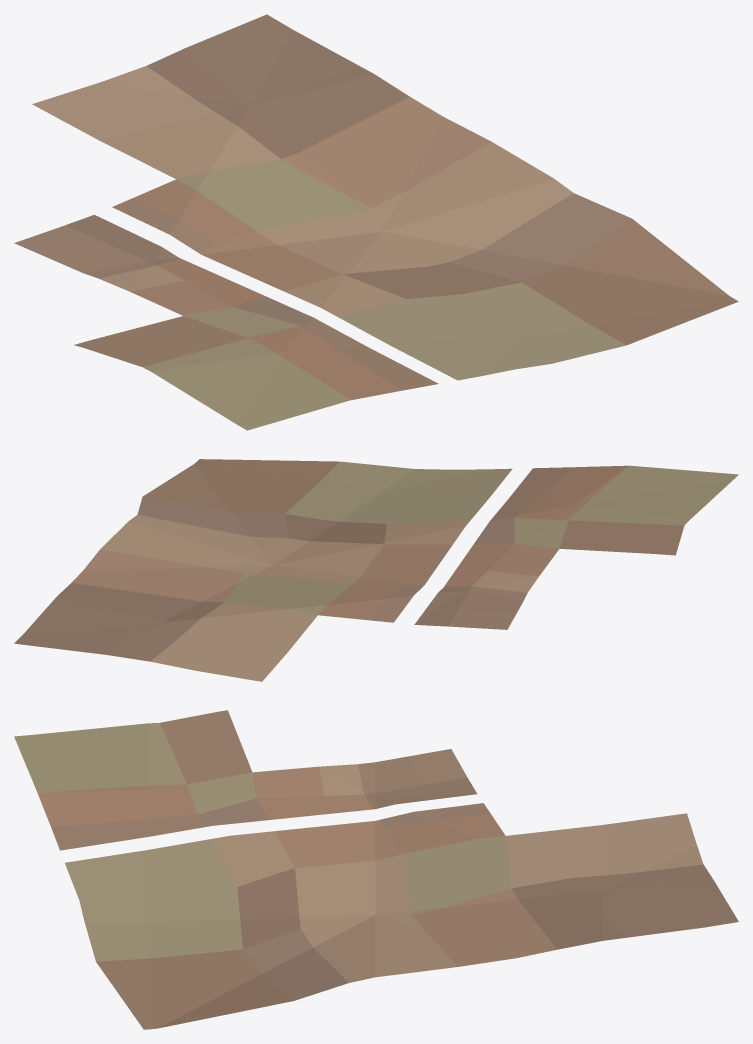
The model's file is farm_-26_-42_soil.glb.
3 renders of one model, top to bottom at view 1: azimuth 30°, elevation 25°; view 2: azimuth 150°, elevation 25°; view 3: azimuth 270°, elevation 25°, orthographic. The views are drawn at different scales.
Visible parts, largest first — view 1: geometry_0; view 2: geometry_0; view 3: geometry_0.
Boxes of the visible parts, bbox=[...] form: geometry_0: bbox=[14, 14, 738, 430]; geometry_0: bbox=[14, 459, 738, 681]; geometry_0: bbox=[14, 710, 738, 1029].
Size of the model in its own units: 215 by 23.83 by 255.
